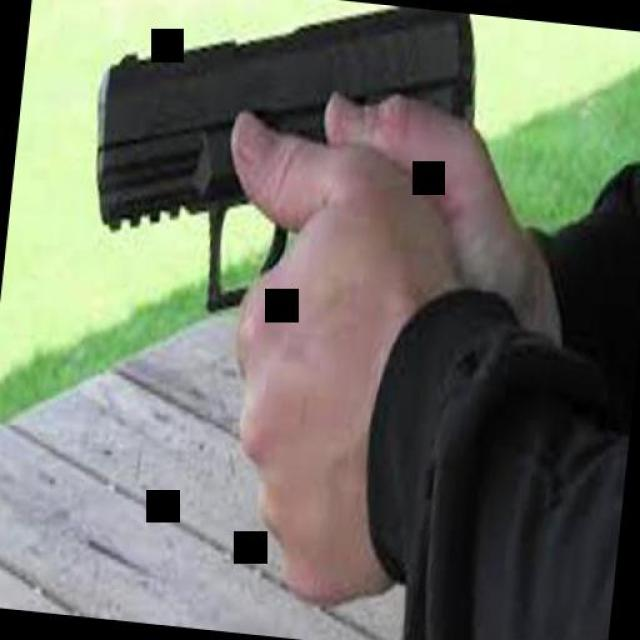gun: (60, 0, 498, 325)
